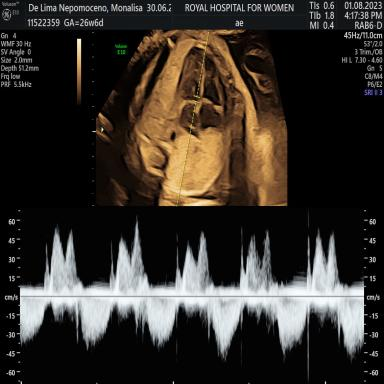Ultrasound-Waves: (23, 212, 361, 384)
